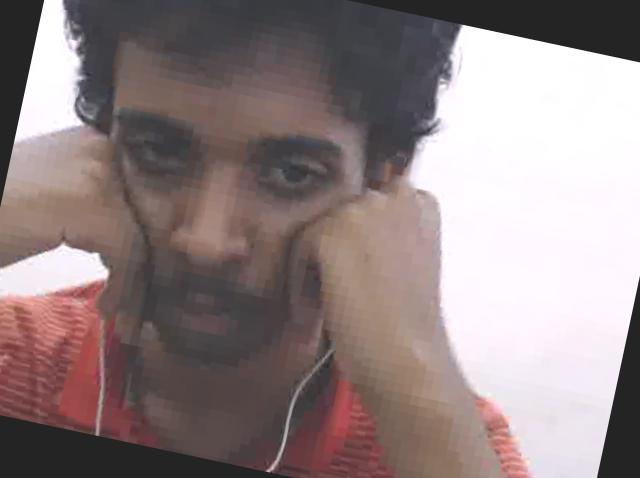bosan: (47, 4, 394, 408)
